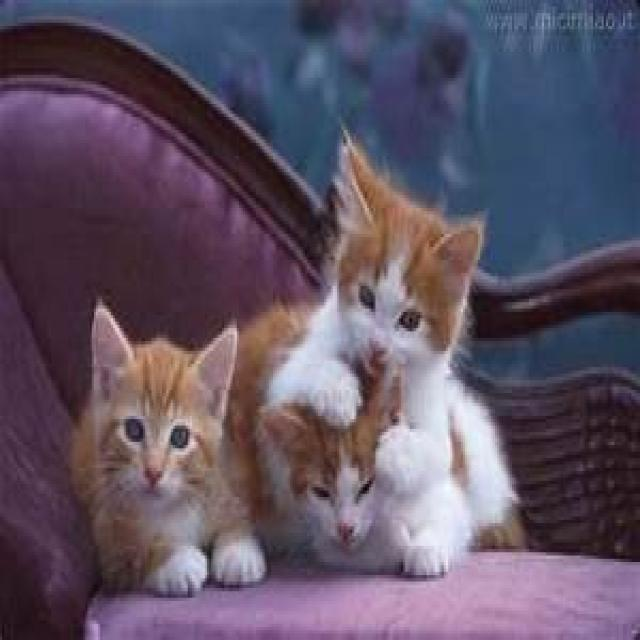animal: (36, 312, 271, 610), (289, 120, 517, 383), (252, 369, 404, 576)
